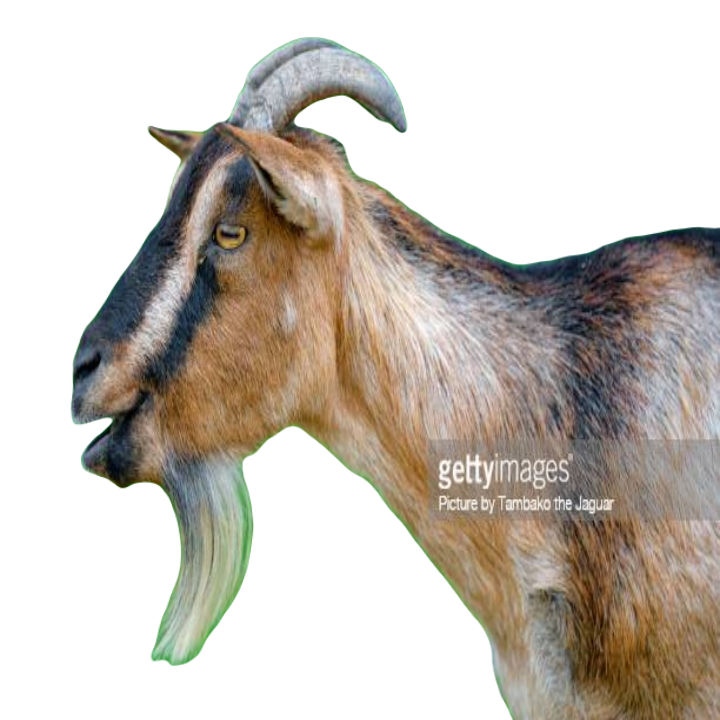Goat: (69, 26, 719, 719)
